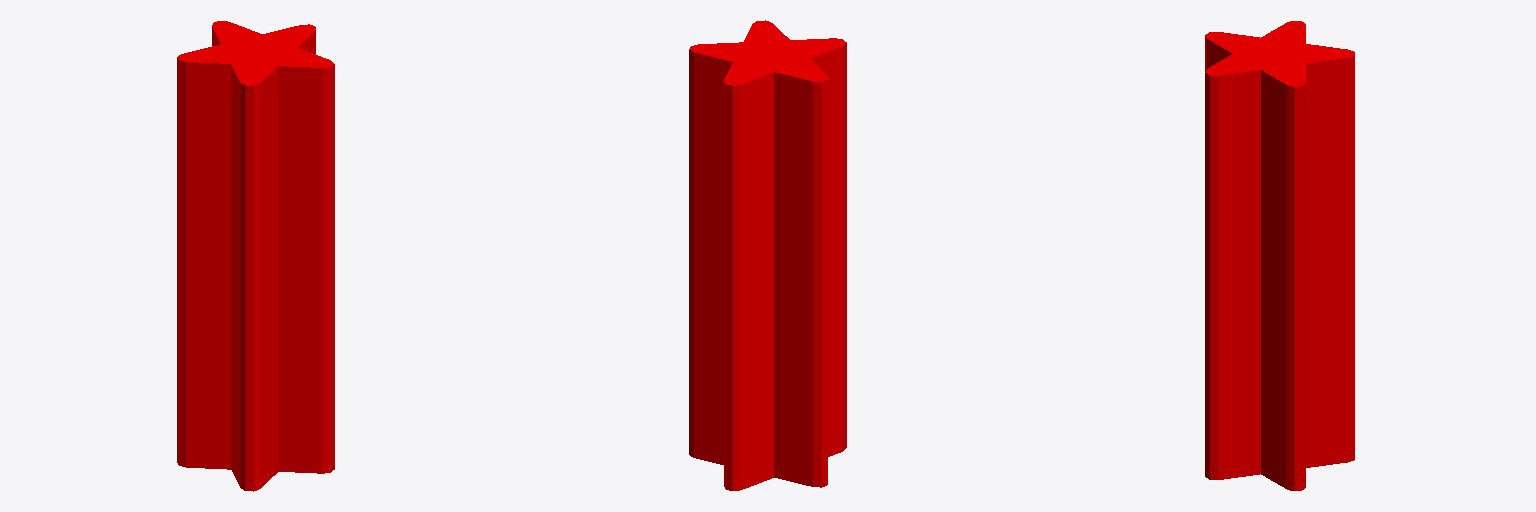
robot.urdf — Small_Short_Star_Red:
<?xml version="1.0"?>
<robot name="Small_Short_Star_Red">
    <link name="Small_Short_Star_Red">
        <visual>
            <geometry>
                <mesh filename="../mesh/factory_insertion/Small_Short_Star_Red.obj" scale="0.001 0.001 0.001"/>
            </geometry>
            <material name="Red">
              <color rgba="1.0 0 0 0"/>
            </material>
        </visual>
        <collision>
            <geometry>
                <mesh filename="../mesh/factory_insertion/Small_Short_Star_Red.obj" scale="0.001 0.001 0.001"/>
            </geometry>
            <sdf resolution="512"/>
        </collision>
    </link>
</robot>

--- Facts derived from the render (not from the file) ---
The picture shows the robot from 3 angles, left to right: view 1: azimuth 30°, elevation 25°; view 2: azimuth 150°, elevation 25°; view 3: azimuth 270°, elevation 25°; orthographic projection.
Robot: Small_Short_Star_Red — 1 links, 0 joints (none); root link Small_Short_Star_Red; default pose: all joints at 0.
Visible links, largest first — view 1: Small_Short_Star_Red; view 2: Small_Short_Star_Red; view 3: Small_Short_Star_Red.
Link boxes in pixels (x1,y1,x2,y2): Small_Short_Star_Red: (177,21,334,491); Small_Short_Star_Red: (689,20,846,490); Small_Short_Star_Red: (1205,21,1354,490).
Size in the robot's own frame: 0.0353 by 0.0336 by 0.1 metres.
1 mesh visuals loaded from 1 distinct referenced files (1 OBJ).
